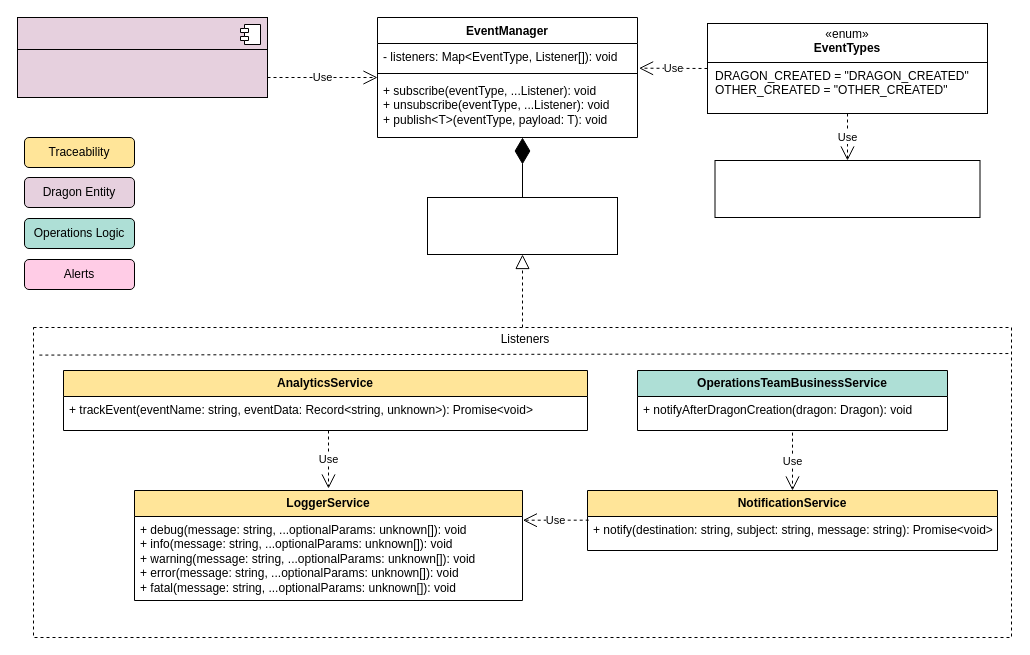
Image size: 1030x655. Some labels were removed from this diagram. Each missing label, with the centre of its shape:
DragonComponent + createUI(dragon: Dragon): HTMLElement +createListeners(): void: point (142, 57)
« type » EventType (typeof EventTypes): [keyof typeof EventTypes]: point (847, 189)
« type » Listener<PayloadData> (data: PayloadData) => void: point (522, 225)
